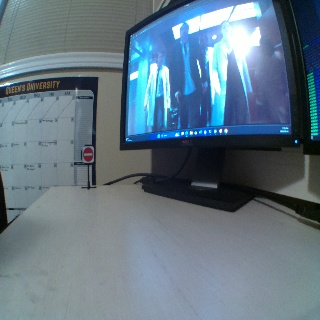sign_noentry: (81, 146, 94, 162)
